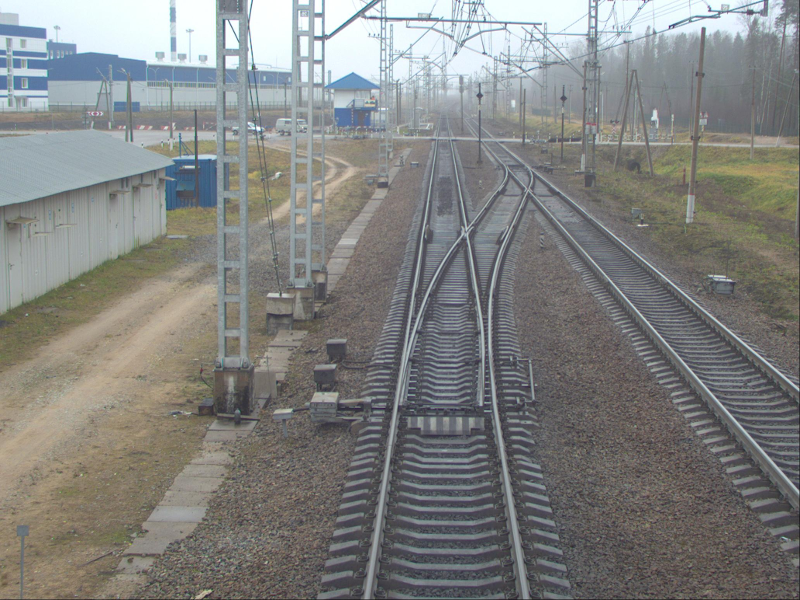railway_arrows: (400, 225, 497, 410)
